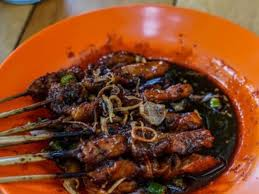sate: (28, 41, 243, 190)
